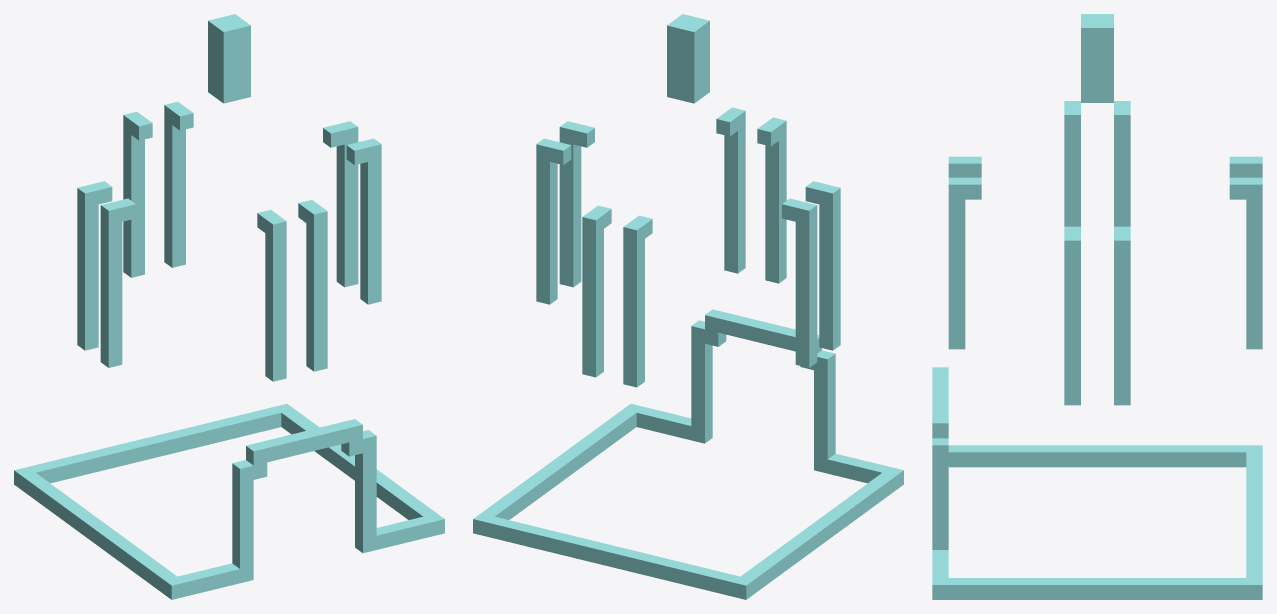
Rendered from Lighthouse-0.obj.
The picture shows the model from 3 angles, left to right: view 1: azimuth 30°, elevation 25°; view 2: azimuth 150°, elevation 25°; view 3: azimuth 270°, elevation 25°; orthographic projection. The views are drawn at different scales.
Bounding box in the file's own units: 2 × 3.4 × 2.
1 material, 1 textured.
